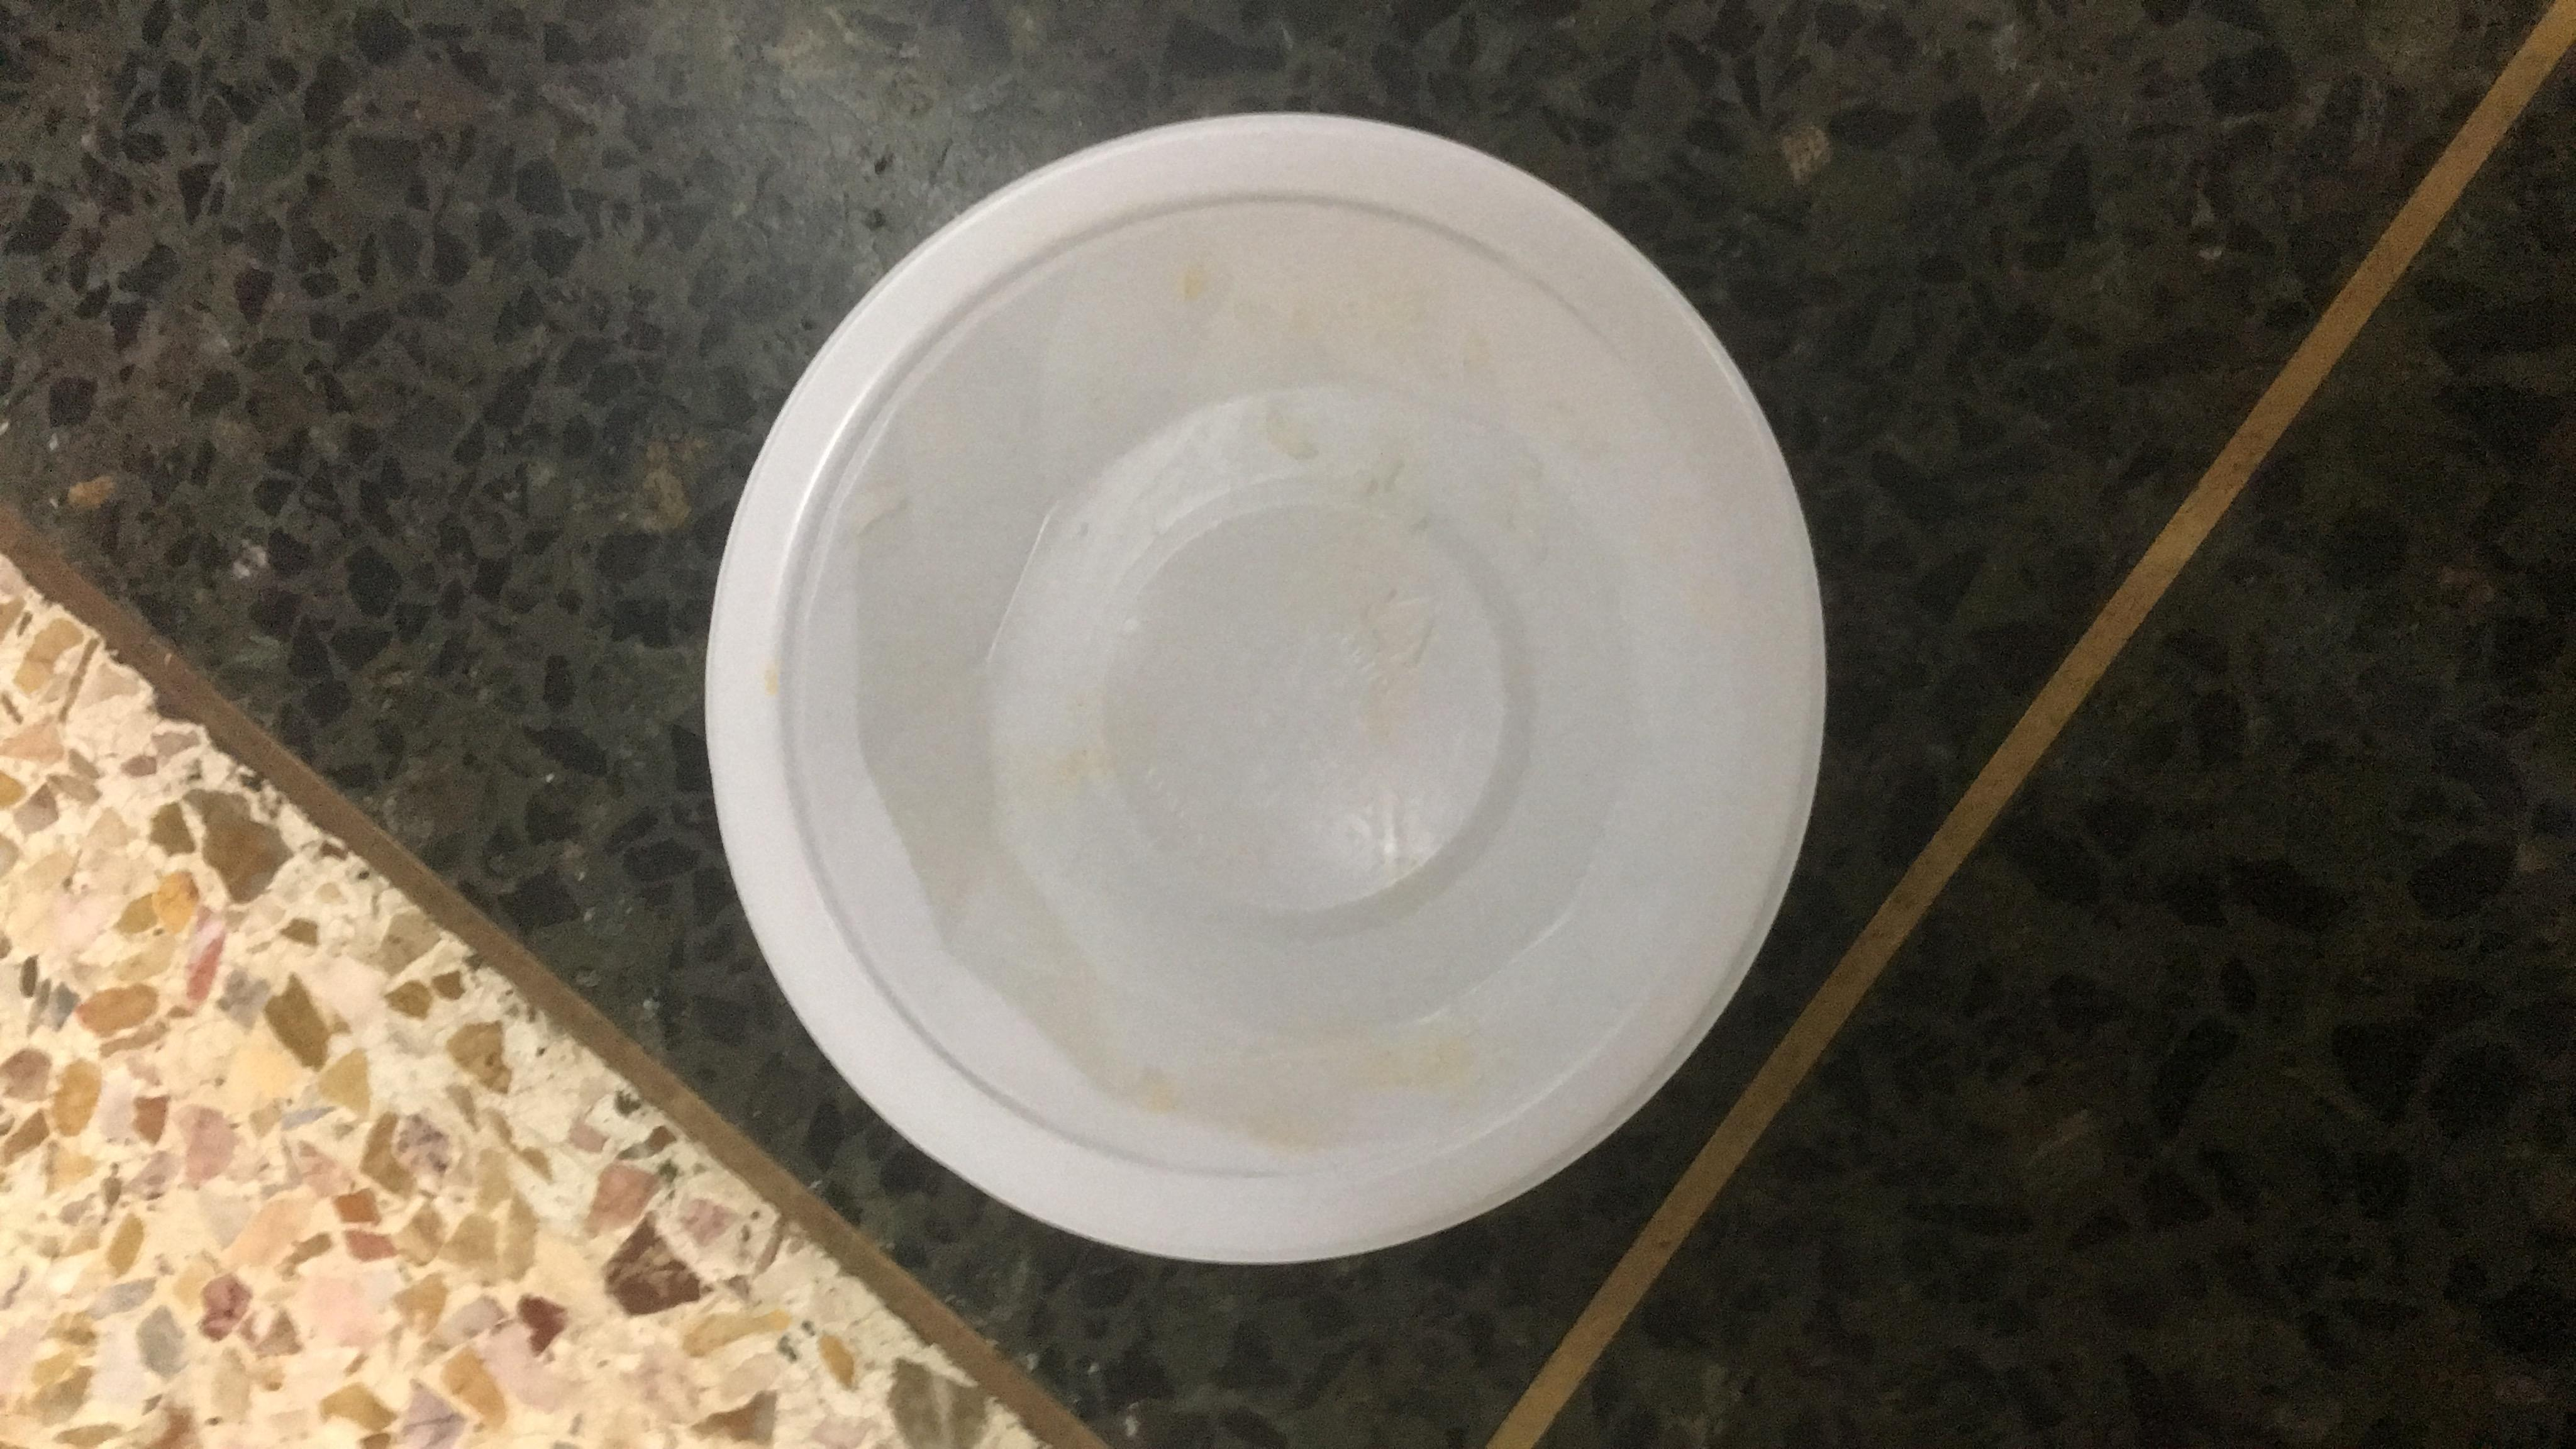bottle: (150, 318, 2576, 1072)
